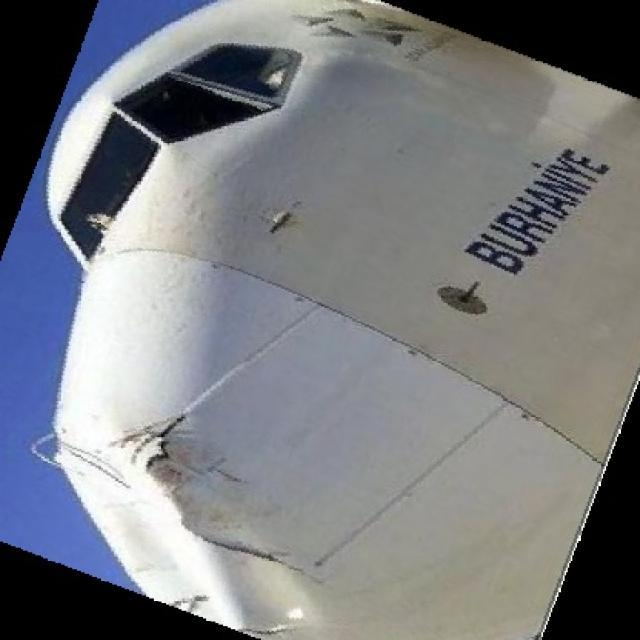dent: (50, 404, 262, 622)
